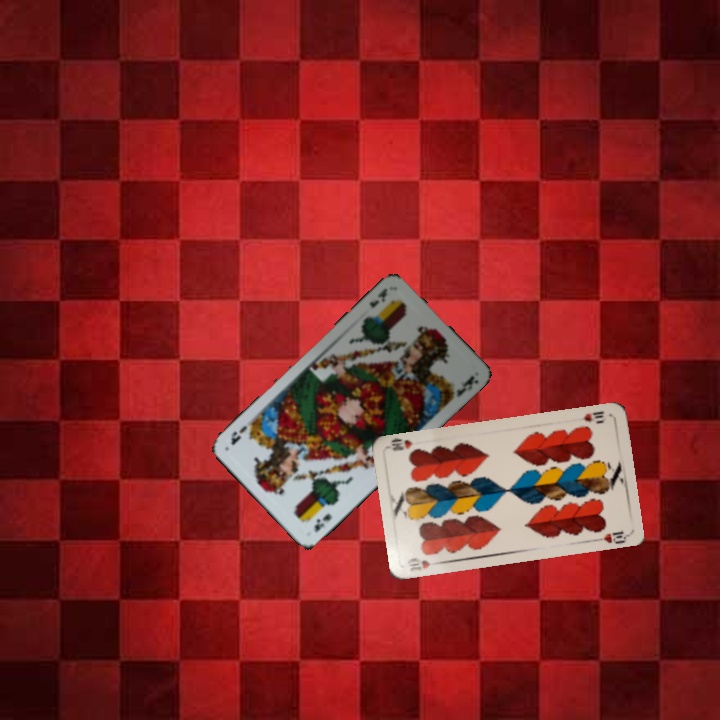EK: (365, 284, 390, 311), (310, 509, 334, 535)
H10: (403, 554, 443, 574), (580, 407, 607, 425)
